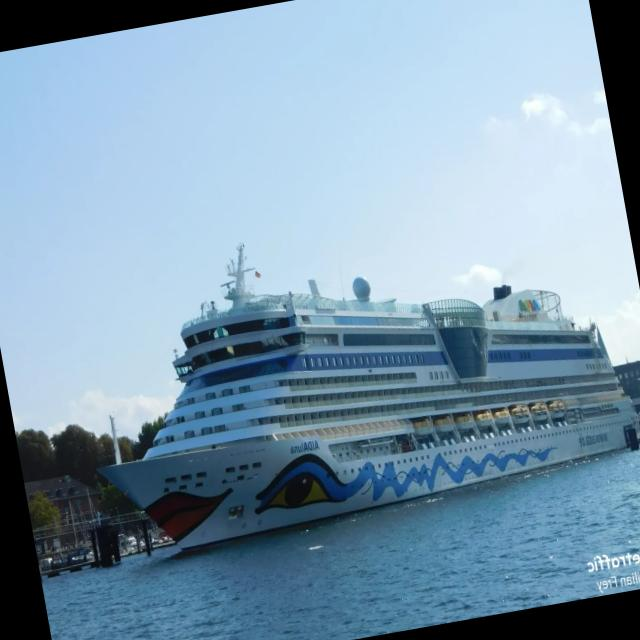Cruise: (102, 245, 638, 547)
